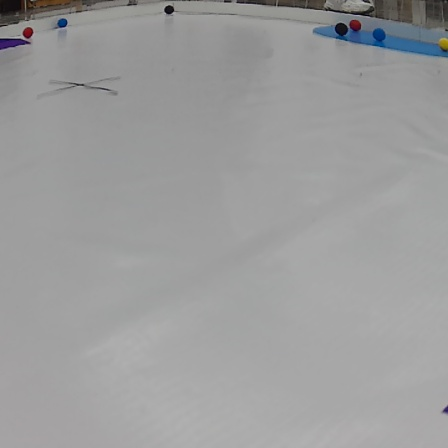black: (334, 22, 347, 37), (163, 4, 175, 15)
blue: (371, 27, 389, 41), (56, 17, 71, 27)
blue_base: (315, 22, 448, 60)
red: (349, 19, 363, 33), (20, 28, 36, 36)
yellow: (439, 38, 448, 53)
